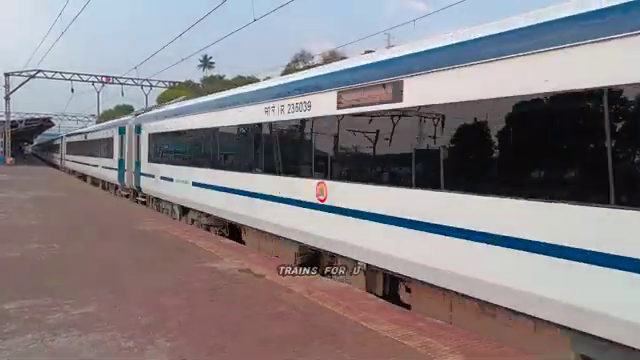Boogie: (279, 98, 319, 115)
